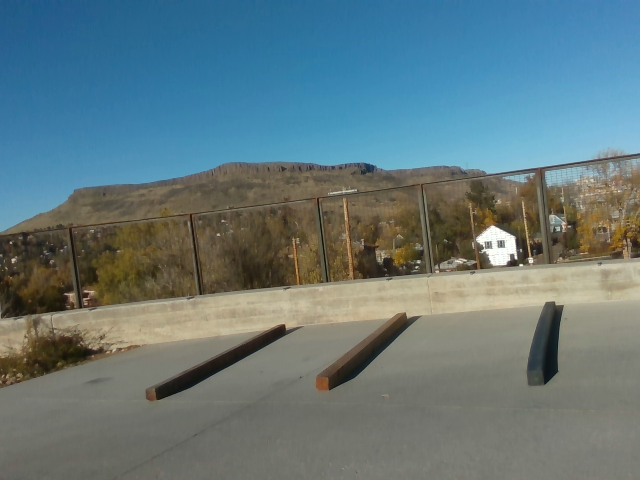Dunnage: (136, 293, 585, 418)
